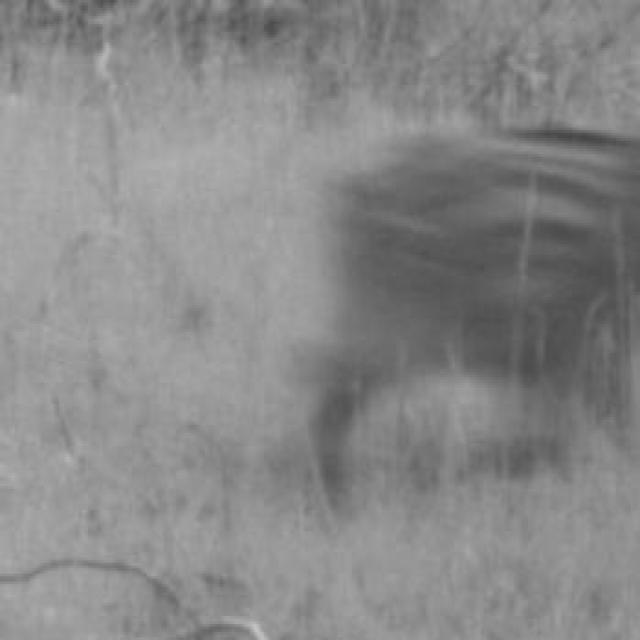pig: (270, 81, 640, 492)
